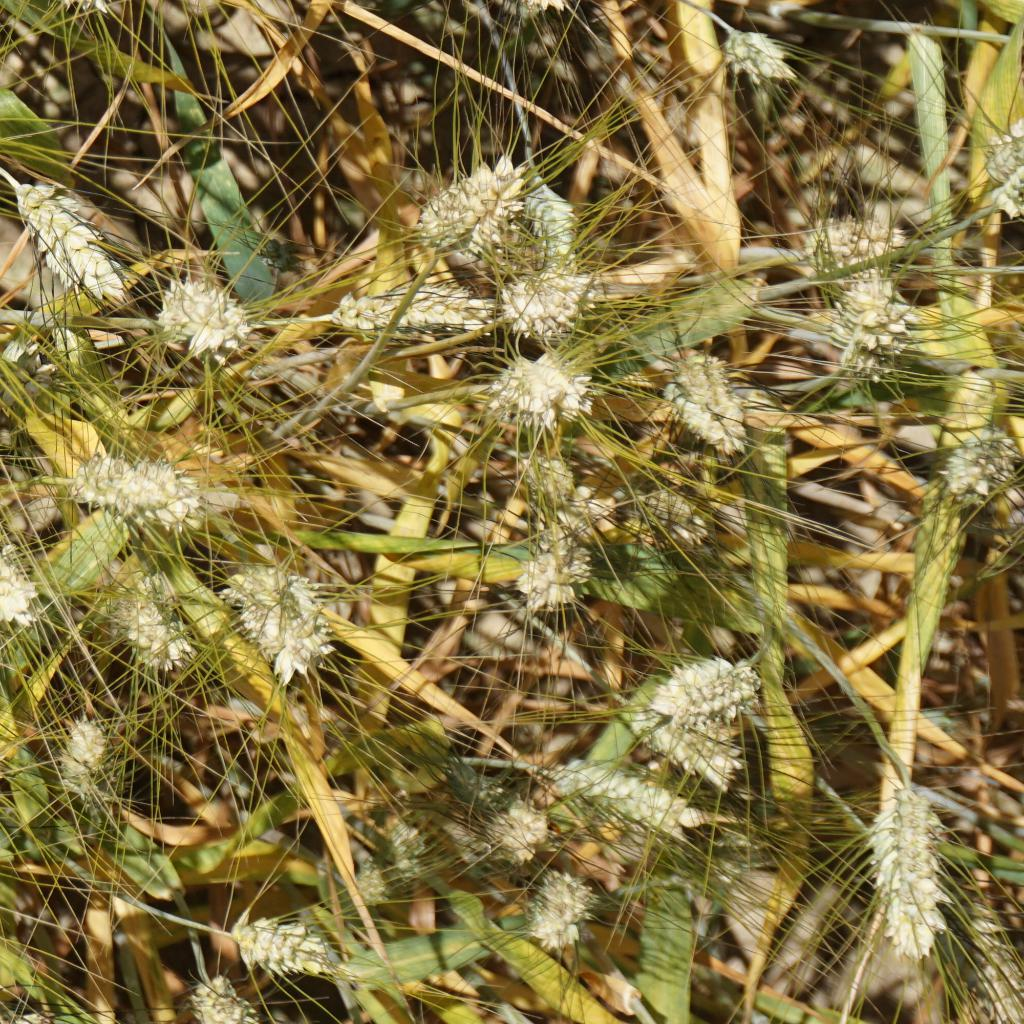0-0: (12, 167, 134, 311), (411, 152, 528, 267), (536, 751, 701, 831), (440, 748, 550, 867), (58, 438, 203, 525), (108, 566, 208, 679), (482, 348, 602, 441), (665, 345, 758, 457), (152, 269, 253, 364), (327, 282, 488, 338), (833, 282, 923, 375), (638, 712, 750, 782), (228, 909, 335, 982), (811, 202, 905, 285), (491, 271, 595, 346), (526, 864, 604, 956), (654, 654, 763, 719), (523, 175, 589, 277), (513, 534, 594, 616), (722, 23, 805, 99), (941, 430, 1024, 501), (975, 116, 1024, 226), (644, 480, 712, 550), (0, 526, 45, 630), (61, 702, 113, 785), (189, 968, 266, 1024), (326, 839, 391, 905), (521, 454, 582, 518), (387, 819, 431, 882), (483, 0, 581, 21), (45, 0, 141, 19)
